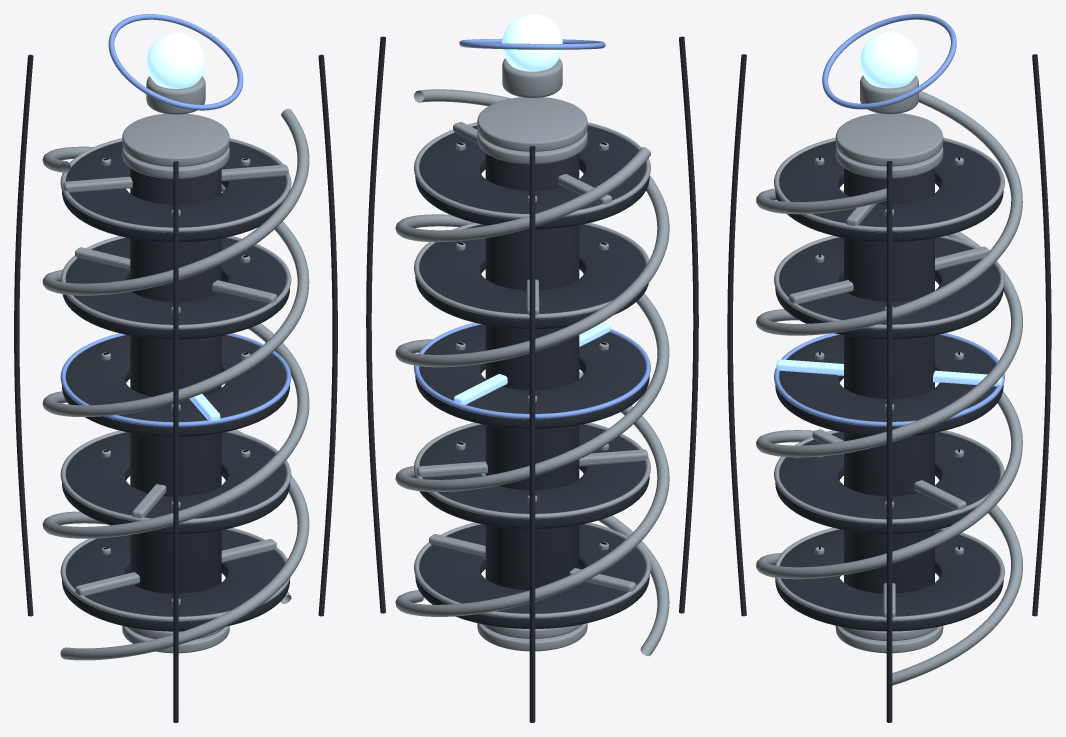
Rendered from career.glb.
The picture shows the model from 3 angles, left to right: view 1: azimuth 30°, elevation 25°; view 2: azimuth 150°, elevation 25°; view 3: azimuth 270°, elevation 25°; orthographic projection. The views are drawn at different scales.
Visible parts, largest first — view 1: pbr_static_graphite, pbr_static_steel, solid_body, pbr_wire_cage_graphite, emit_core, wire_halo, landing_edge.002; view 2: pbr_static_graphite, pbr_static_steel, solid_body, pbr_wire_cage_graphite, emit_core, landing_edge.002, wire_halo, emit_rung; view 3: pbr_static_graphite, pbr_static_steel, solid_body, pbr_wire_cage_graphite, emit_core, wire_halo, landing_edge.002, emit_rung.
Boxes of the visible parts, x1,y1,x2,y2 form: pbr_static_graphite: (62,141,289,631); pbr_static_steel: (42,76,309,660); solid_body: (130,168,221,593); pbr_wire_cage_graphite: (14,54,337,722); emit_core: (146,32,205,88); wire_halo: (108,14,243,110); landing_edge.002: (60,333,291,427); pbr_static_graphite: (415,125,649,628); pbr_static_steel: (395,58,669,656); solid_body: (485,153,579,590); pbr_wire_cage_graphite: (366,36,698,722); emit_core: (502,14,562,71); landing_edge.002: (414,322,650,419); wire_halo: (459,38,605,49); emit_rung: (454,321,610,404); pbr_static_graphite: (775,141,1003,631); pbr_static_steel: (756,75,1022,685); solid_body: (844,168,934,593); pbr_wire_cage_graphite: (727,54,1051,722); emit_core: (860,32,918,88); wire_halo: (822,14,956,109); landing_edge.002: (774,333,1004,426); emit_rung: (776,359,1002,386).
Bounding box in the file's own units: 2.38 × 5.06 × 2.41.
